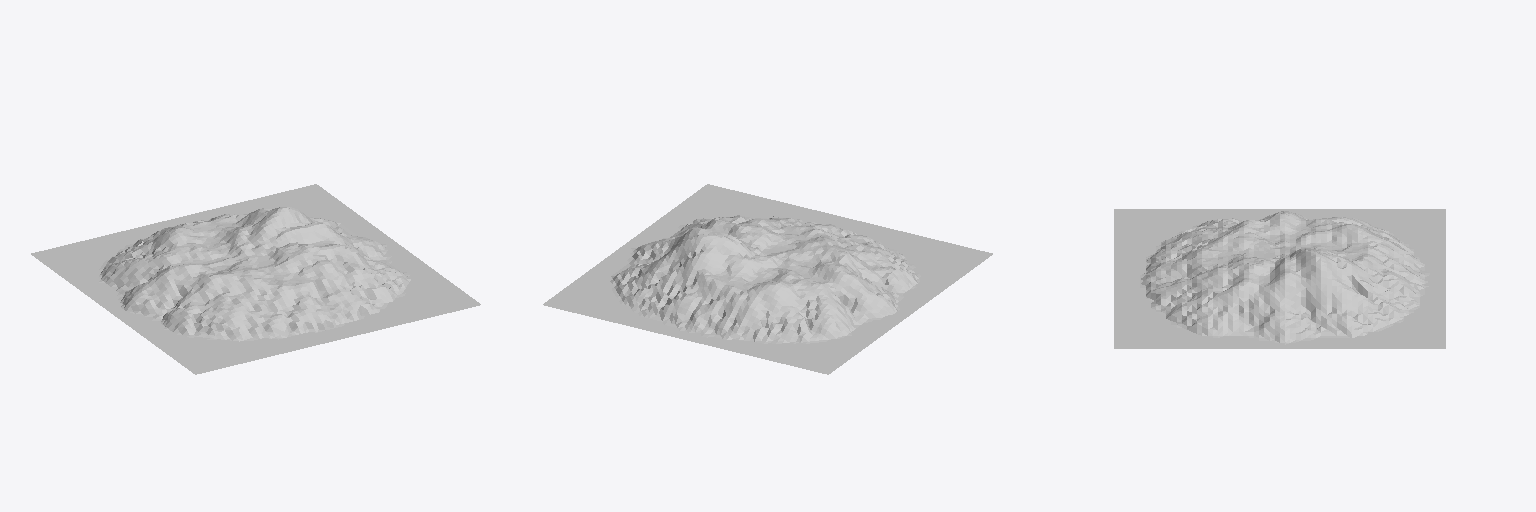
Rendered from HightPlane.obj.
3 renders of one model, left to right at view 1: azimuth 30°, elevation 25°; view 2: azimuth 150°, elevation 25°; view 3: azimuth 270°, elevation 25°, orthographic.
Parts seen in each view (by area): view 1: HightPlane:Mesh; view 2: HightPlane:Mesh; view 3: HightPlane:Mesh.
Boxes of the visible parts, x1,y1,x2,y2 form: HightPlane:Mesh: [31, 184, 480, 374]; HightPlane:Mesh: [543, 184, 992, 374]; HightPlane:Mesh: [1114, 209, 1445, 348].
Bounding box in the file's own units: 64 × 10 × 64.